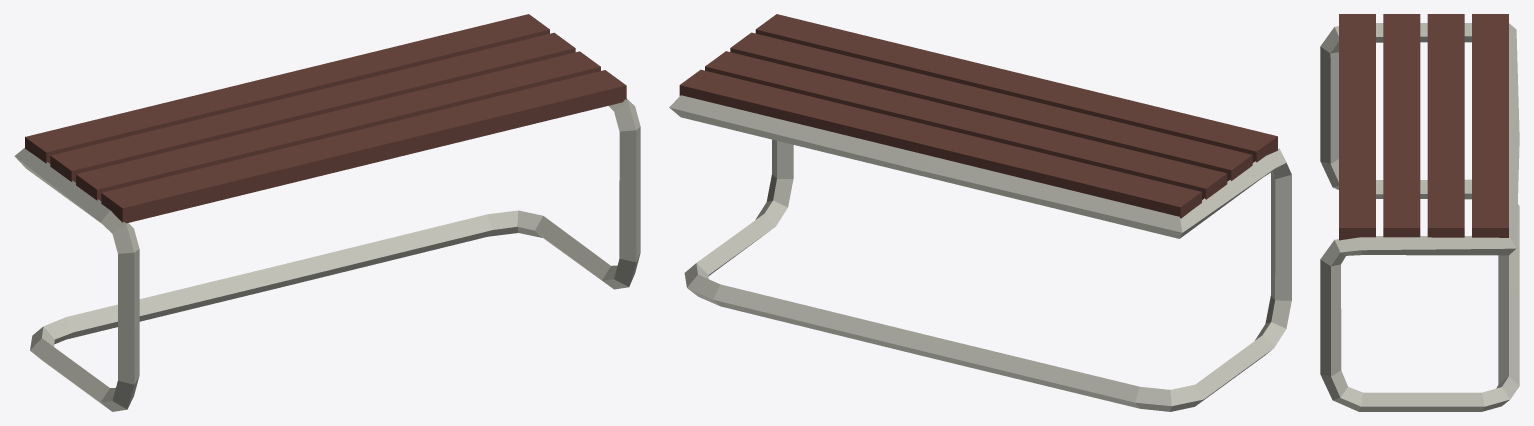
The model's file is lavkalab.fbx.
3 renders of one model, left to right at view 1: azimuth 30°, elevation 25°; view 2: azimuth 150°, elevation 25°; view 3: azimuth 270°, elevation 25°, orthographic. The views are drawn at different scales.
Parts seen in each view (by area): view 1: Cube.105; view 2: Cube.105; view 3: Cube.105.
Boxes of the visible parts, x1=… form: Cube.105: x1=14, y1=14, x2=640, y2=411; Cube.105: x1=669, y1=14, x2=1291, y2=411; Cube.105: x1=1320, y1=14, x2=1519, y2=411.
Size of the model in its own units: 196 by 76.15 by 74.32.
